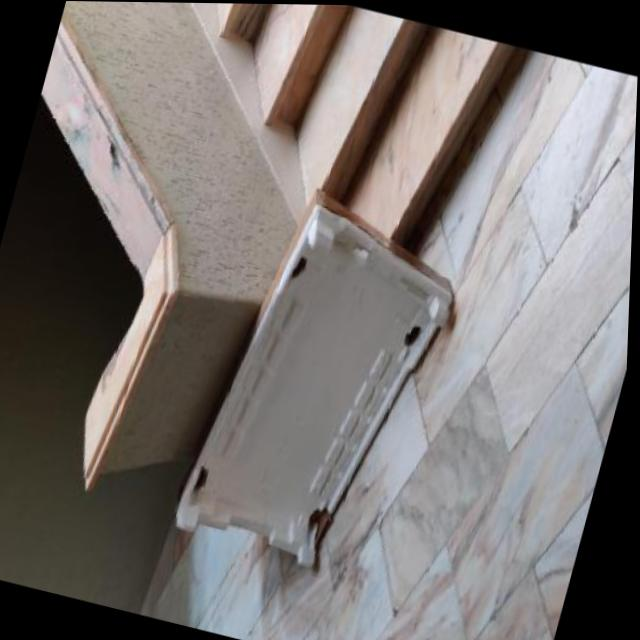foam: (165, 171, 475, 588)
